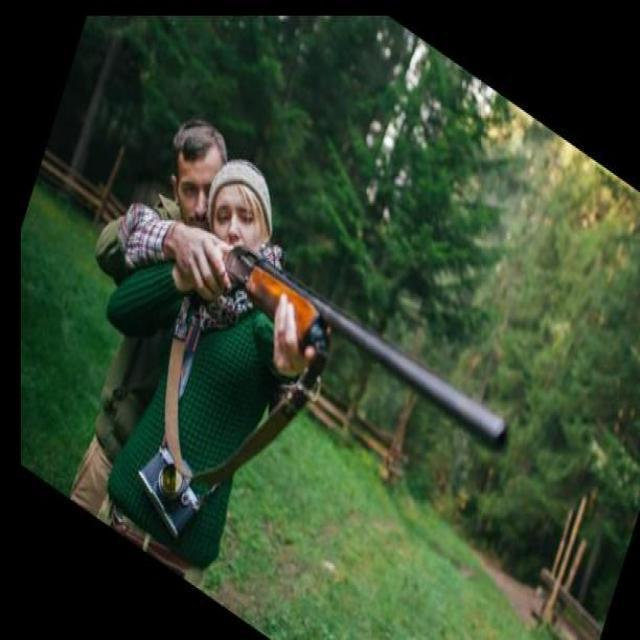weapon: (224, 244, 511, 452)
